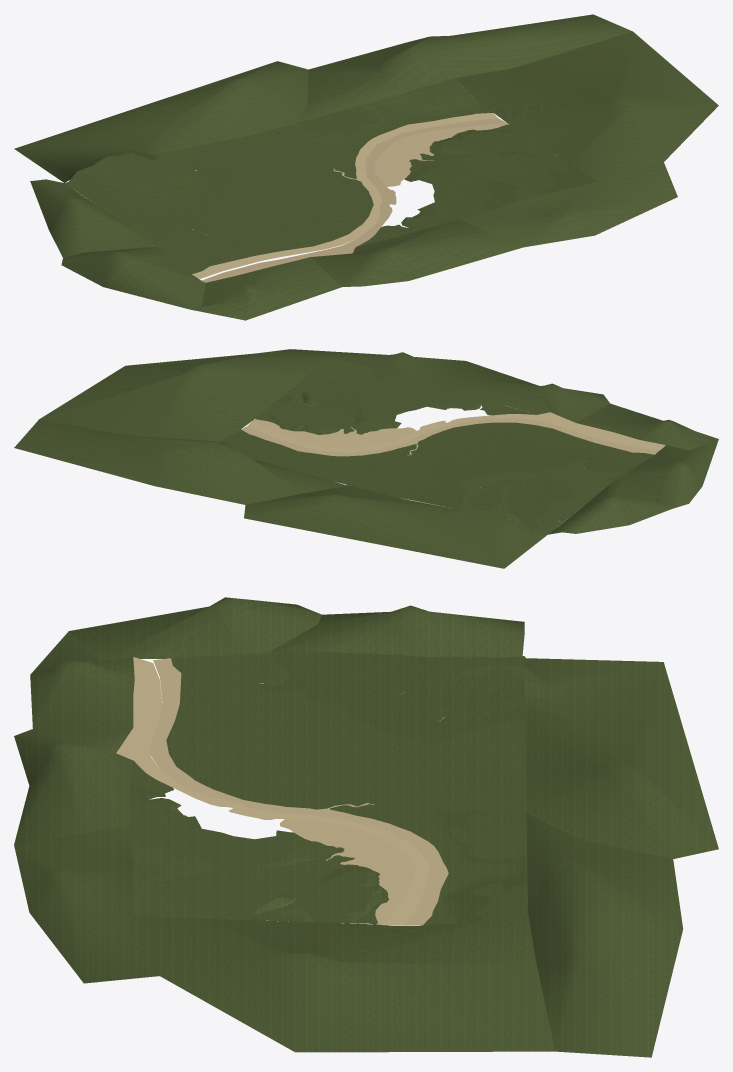
File: terrenoComum-finallambert.dae
The picture shows the model from 3 angles, top to bottom: view 1: azimuth 30°, elevation 25°; view 2: azimuth 150°, elevation 25°; view 3: azimuth 270°, elevation 25°; orthographic projection. The views are drawn at different scales.
Visible parts, largest first — view 1: polySurface12597, polySurface9, polySurface8, polySurface12584; view 2: polySurface12597, polySurface8, polySurface9, polySurface12584; view 3: polySurface12597, polySurface8, polySurface9, polySurface12584.
Part boxes in pixels (box(x1,y1,x2,y2)): polySurface12597: box(14, 14, 718, 320); polySurface9: box(192, 113, 497, 278); polySurface8: box(201, 118, 506, 282); polySurface12584: box(375, 123, 509, 186); polySurface12597: box(14, 349, 718, 568); polySurface8: box(248, 412, 665, 452); polySurface9: box(241, 418, 658, 456); polySurface12584: box(253, 418, 416, 447); polySurface12597: box(14, 597, 718, 1057); polySurface8: box(116, 657, 429, 925); polySurface9: box(151, 658, 448, 924); polySurface12584: box(280, 819, 415, 924).
Bounding box in the file's own units: 6766 × 405 × 4455.
2 materials, 2 textured.
